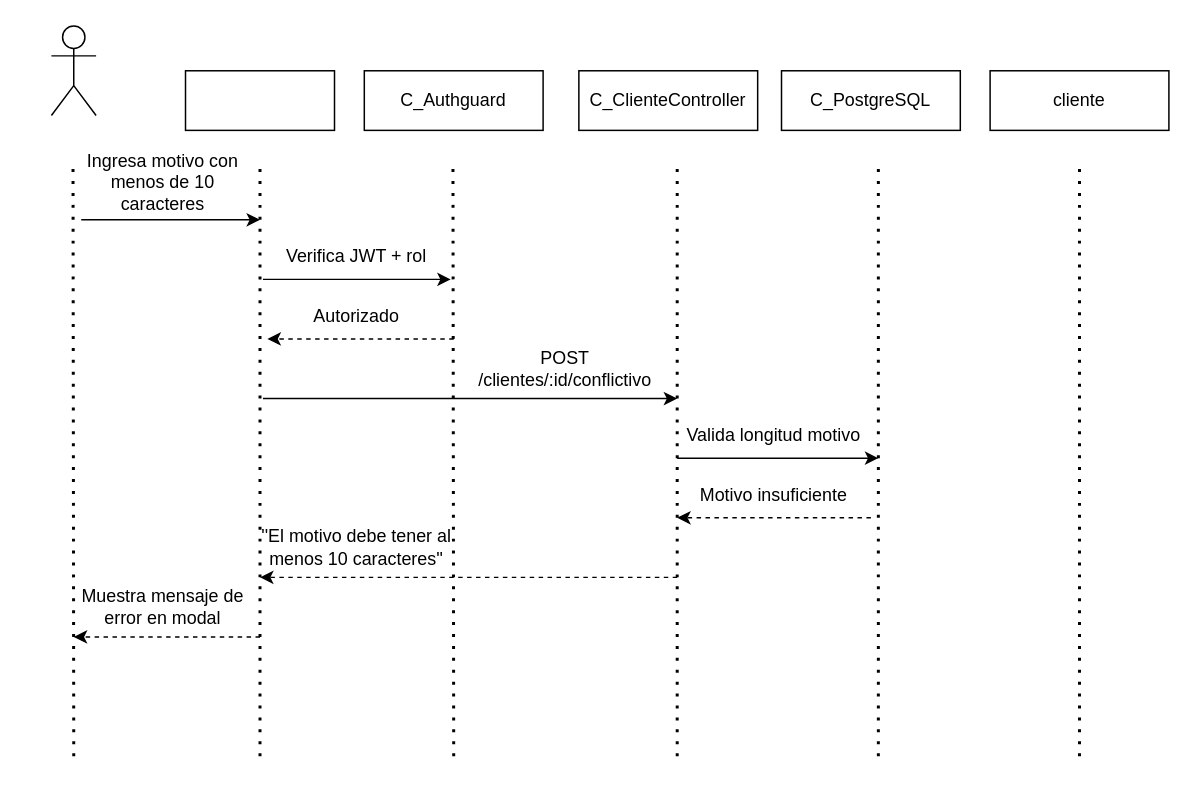
Some shapes in this 1195 by 785 pixel diagram are drawn without their labels. The shapes that lost their labels are listed below. From the top down, each one's box as (x1, y1, x2, y2) in pixels, then its label:
(50, 25, 96, 115): Jefe técnico
(184, 69, 335, 130): V_Clientes
